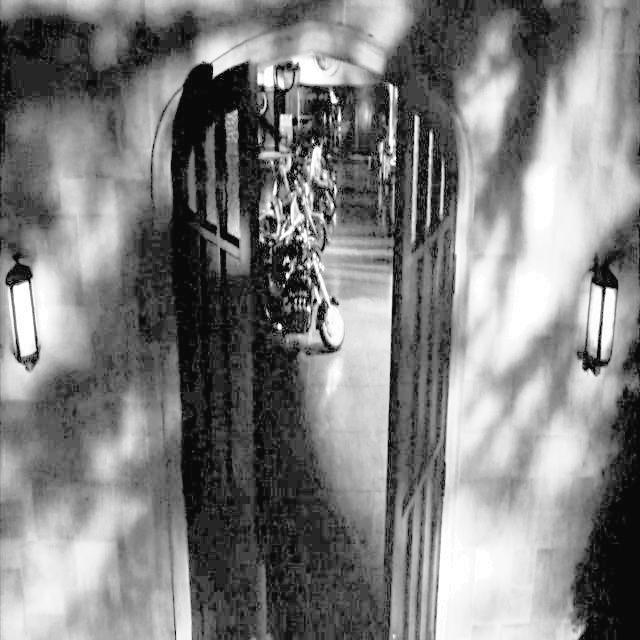Motorcycle: (229, 152, 387, 381)
